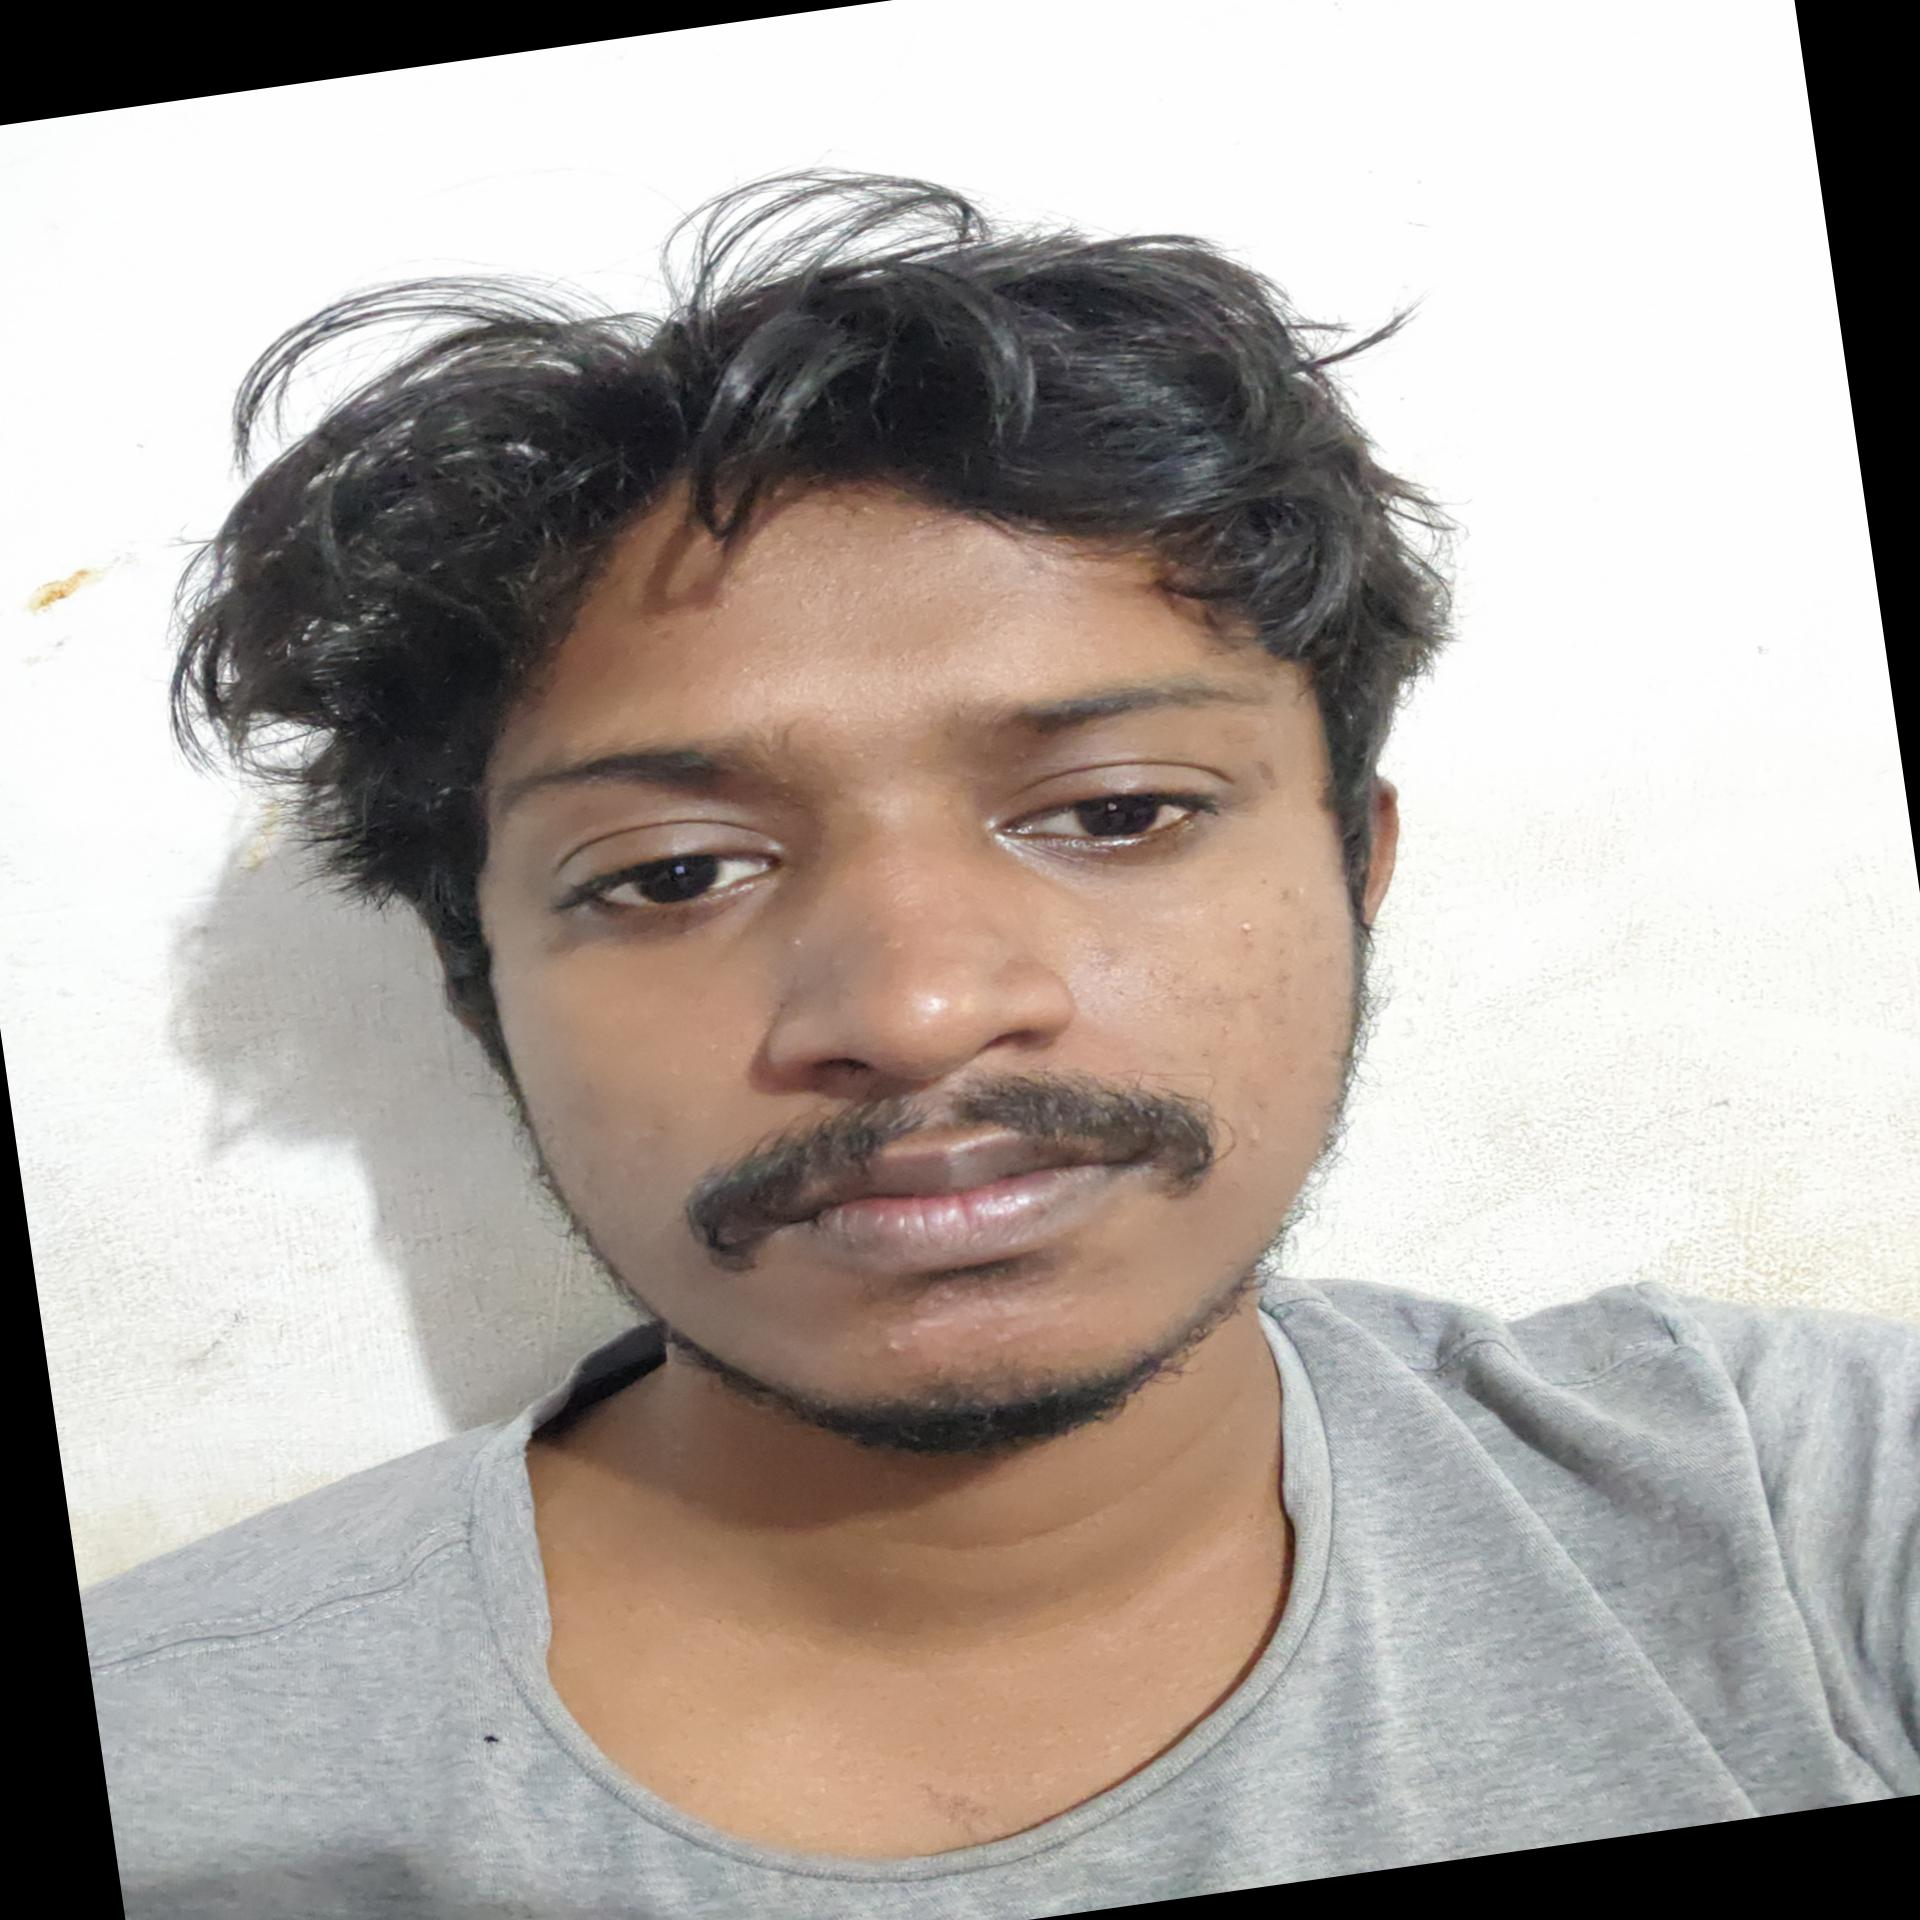Acne: (760, 770, 809, 830), (765, 925, 816, 967), (874, 1322, 925, 1363), (1234, 1122, 1276, 1166), (967, 1315, 1015, 1354), (992, 744, 1034, 782), (872, 925, 914, 958), (1039, 1292, 1081, 1324), (691, 1037, 737, 1064), (897, 749, 939, 777), (1225, 914, 1269, 941), (1280, 881, 1317, 907), (923, 1287, 956, 1315), (1013, 1268, 1048, 1291), (826, 777, 855, 804), (928, 793, 962, 814), (1060, 1233, 1090, 1255), (849, 745, 874, 767)
Englarged Pores: (1097, 941, 1320, 1067)
